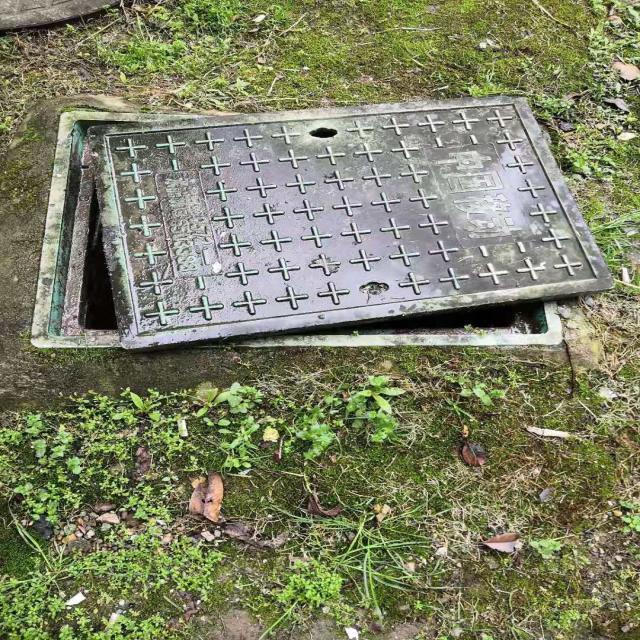Faulty: (26, 94, 618, 348)
